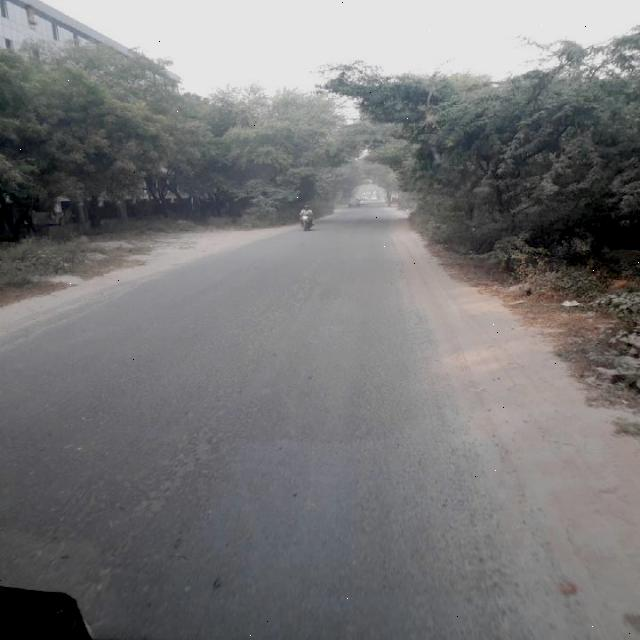D20: (62, 399, 238, 565)
